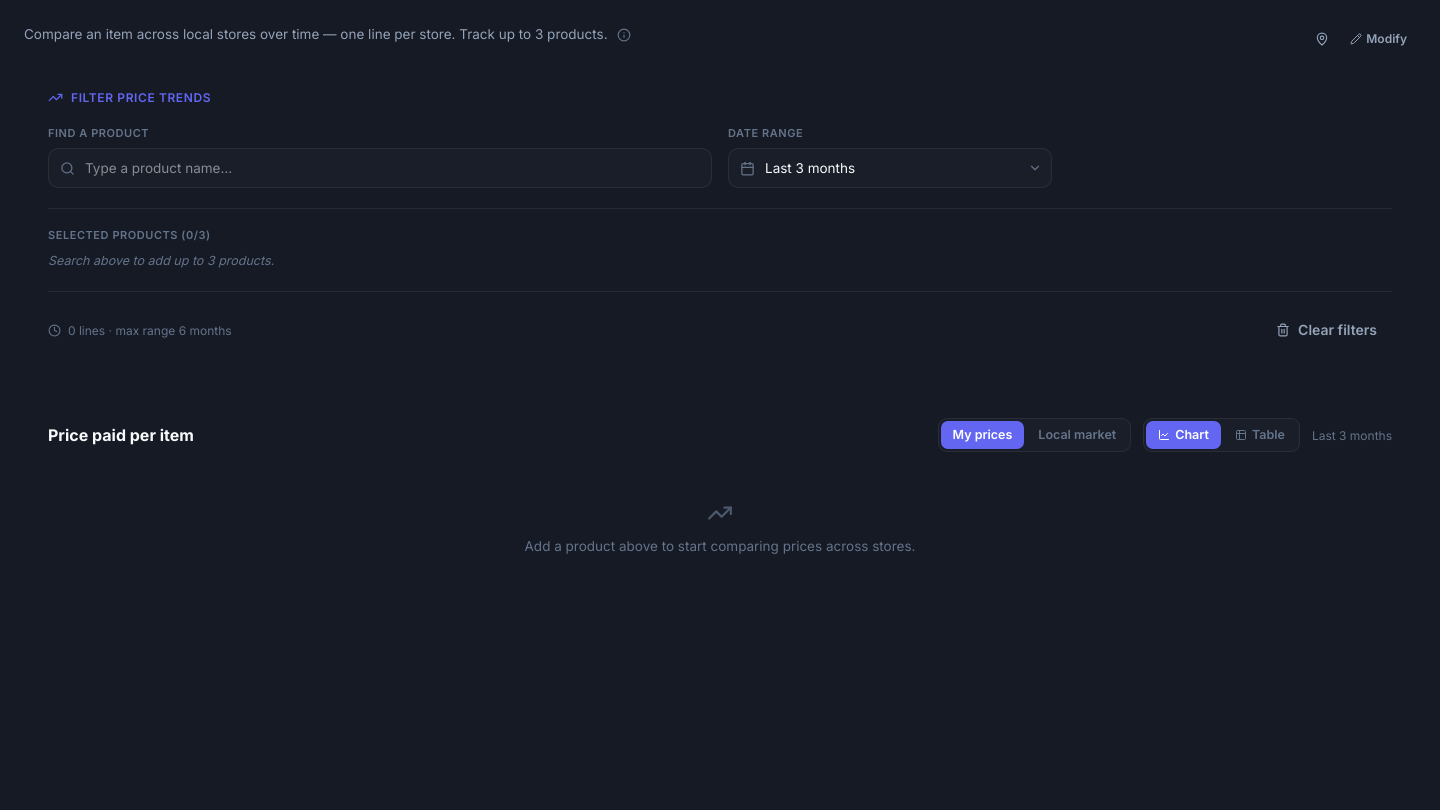
Test case: ReportsPage › asks for a region instead of blaming the user’s scanning when none is set
Type "melk" into the field with test id "trend-product-search".
click(380, 168); type("melk")  # box [48,148,712,188]
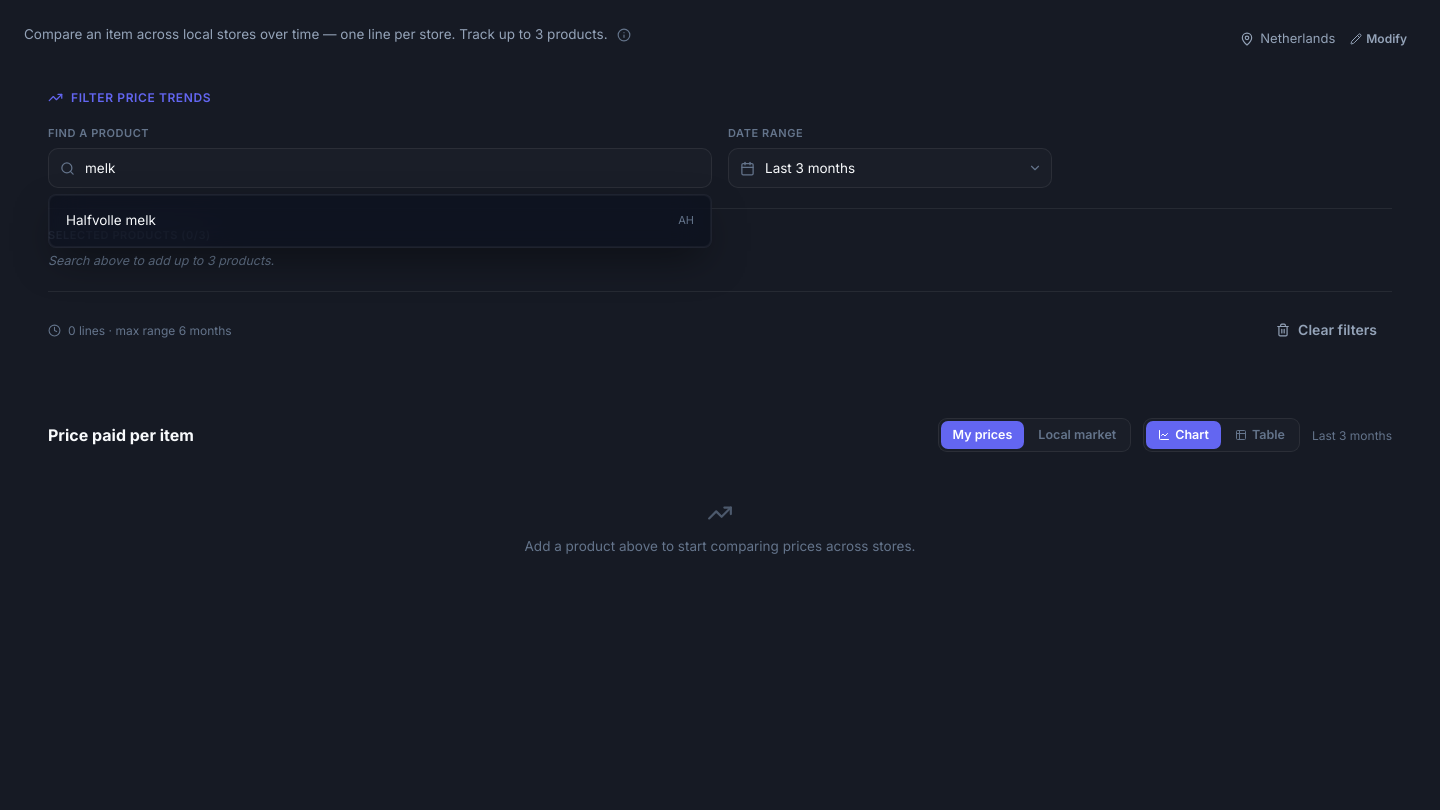
Press the mouse on the text "Halfvolle melk" at (111, 221), box [66,210,156,232]
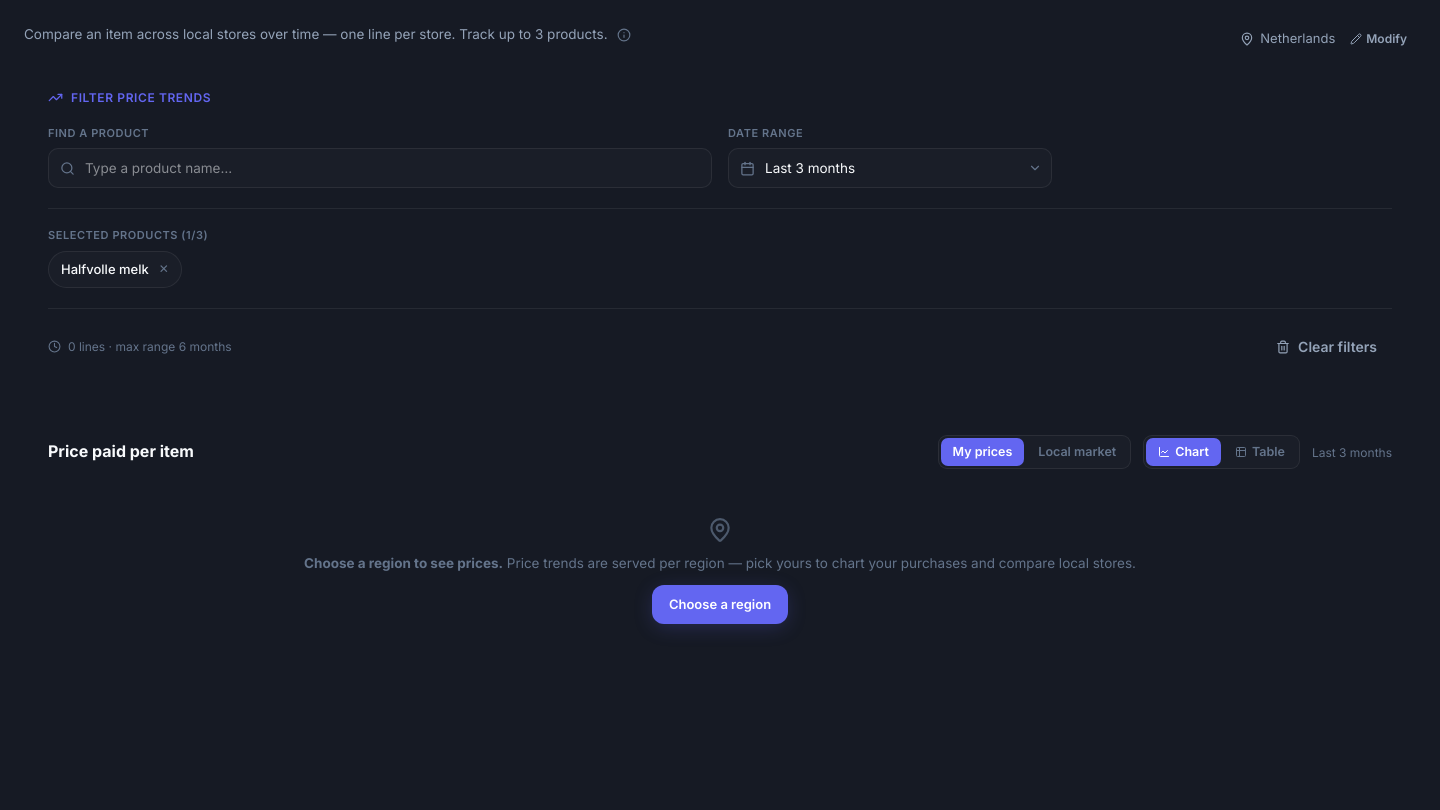
Check: the element with test id "trends-region-required" shows "Choose a region"
Click the button "Choose a region".
click(720, 604)  # box [652,585,788,624]
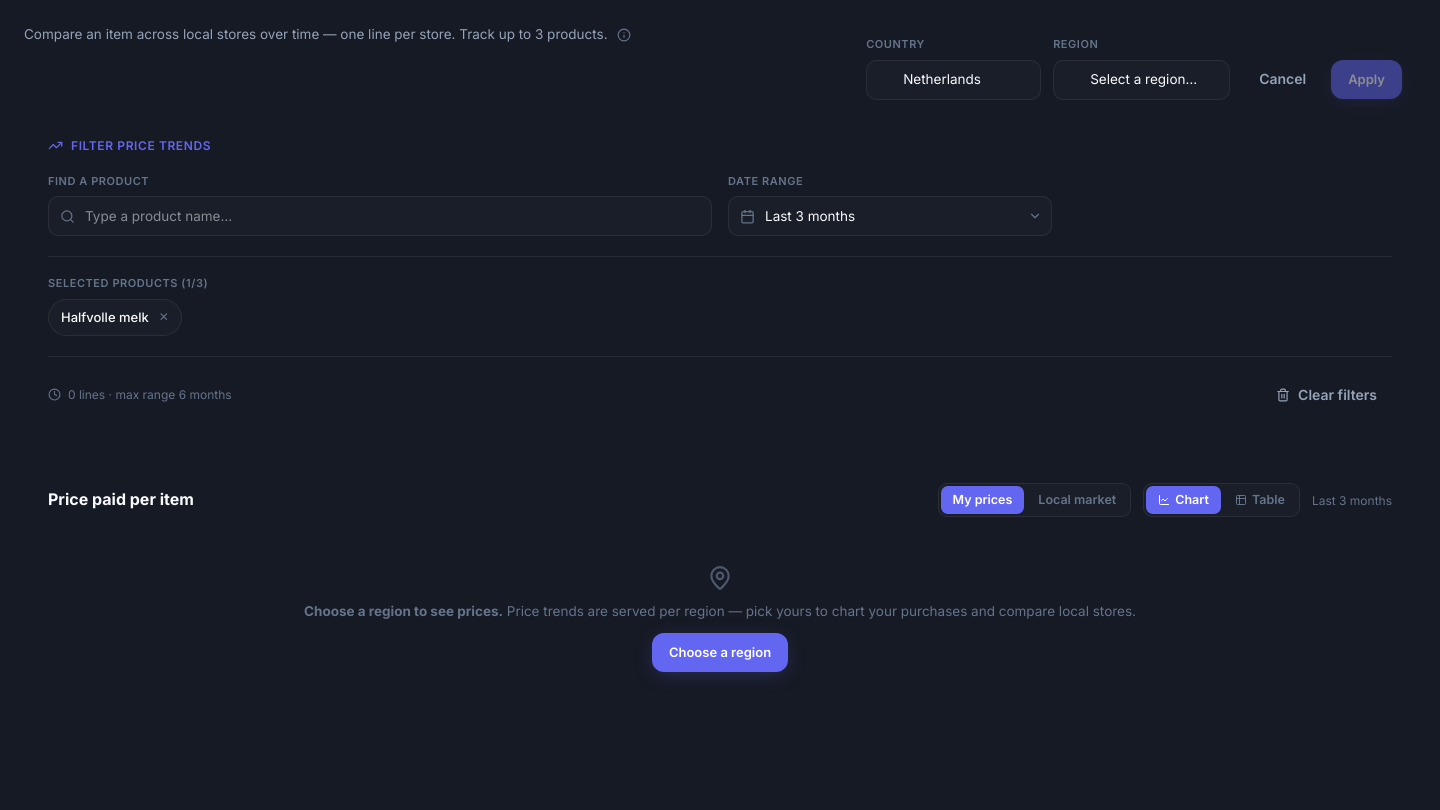
Check: the element with test id "trend-region-editor" is shown, box [852,24,1416,112]
